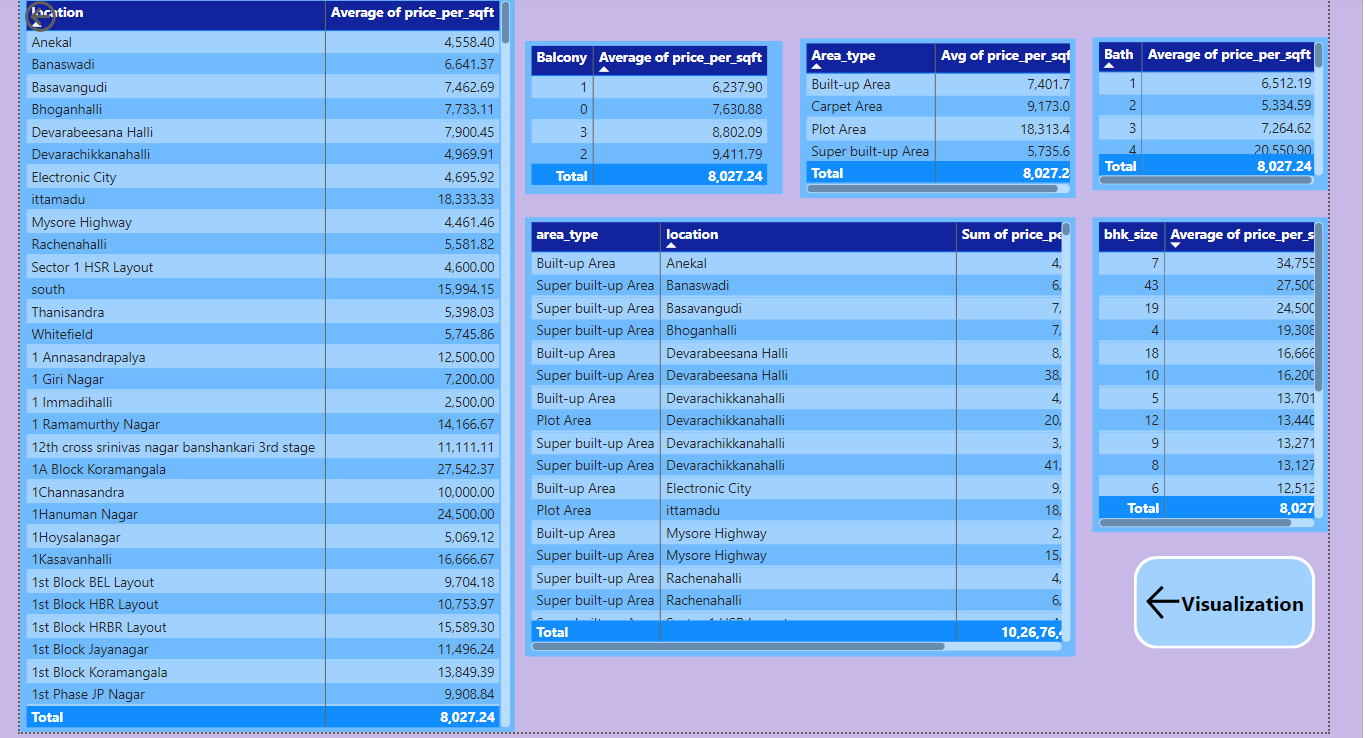

The dashboard page shown, as its layout file describes it:
{"tool":"powerbi","page":{"name":"Tables","canvas":[1280,720],"ordinal":1},"visuals":[{"type":"actionButton","title":"Visual Analysis","box":[1089.3,548,177.3,90.7],"z":8000},{"type":"tableEx","fields":{"Values":["final_cleaned_bengaluru_house_prices.location","Avg(final_cleaned_bengaluru_house_prices.price_per_sqft)"]},"box":[0,0,484,720],"z":9000},{"type":"actionButton","box":[0,0,100,40],"z":10000},{"type":"tableEx","fields":{"Values":["final_cleaned_bengaluru_house_prices.area_type","Avg(final_cleaned_bengaluru_house_prices.price_per_sqft)"]},"box":[762.7,41.3,269.3,156],"z":11000},{"type":"tableEx","fields":{"Values":["Sum(final_cleaned_bengaluru_house_prices.bath)","Avg(final_cleaned_bengaluru_house_prices.price_per_sqft)"]},"box":[1049.3,40,230.7,149.3],"z":12000},{"type":"tableEx","fields":{"Values":["Sum(final_cleaned_bengaluru_house_prices.bhk_size)","Avg(final_cleaned_bengaluru_house_prices.price_per_sqft)"]},"box":[1049.3,216,230.7,308],"z":13000},{"type":"tableEx","fields":{"Values":["Sum(final_cleaned_bengaluru_house_prices.balcony)","Avg(final_cleaned_bengaluru_house_prices.price_per_sqft)"]},"box":[493.3,44,252,149.3],"z":14000},{"type":"tableEx","fields":{"Values":["final_cleaned_bengaluru_house_prices.area_type","final_cleaned_bengaluru_house_prices.location","Sum(final_cleaned_bengaluru_house_prices.price_per_sqft)","final_cleaned_bengaluru_house_prices.availability"]},"box":[493.3,216,538.7,429.3],"z":15000}]}

Visuals, with their boxes in screenshot pixels (x1, y1, x2, y2):
"Visual Analysis" actionButton: [1114,580,1293,672]
tableEx - final_cleaned_bengaluru_house_prices.location x Avg(final_cleaned_bengaluru_house_prices.price_per_sqft): [11,25,501,737]
actionButton: [11,25,112,65]
tableEx - final_cleaned_bengaluru_house_prices.area_type x Avg(final_cleaned_bengaluru_house_prices.price_per_sqft): [783,67,1056,225]
tableEx - Sum(final_cleaned_bengaluru_house_prices.bath) x Avg(final_cleaned_bengaluru_house_prices.price_per_sqft): [1073,65,1307,217]
tableEx - Sum(final_cleaned_bengaluru_house_prices.bhk_size) x Avg(final_cleaned_bengaluru_house_prices.price_per_sqft): [1073,244,1307,556]
tableEx - Sum(final_cleaned_bengaluru_house_prices.balcony) x Avg(final_cleaned_bengaluru_house_prices.price_per_sqft): [510,69,765,221]
tableEx - final_cleaned_bengaluru_house_prices.area_type x final_cleaned_bengaluru_house_prices.location: [510,244,1056,678]
